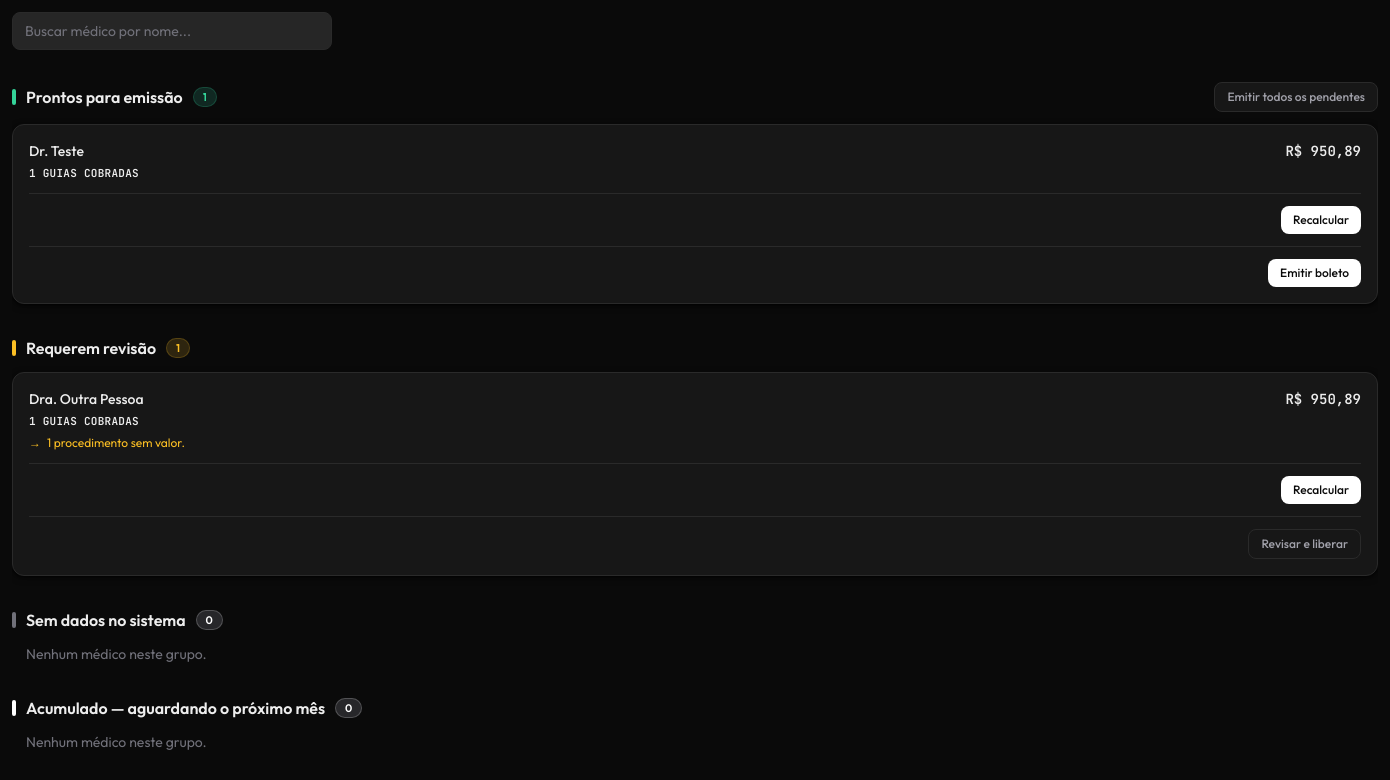
RelatorioGrupos — busca por nome › filtra os grupos pelo nome digitado, sem afetar o total geral
This screenshot has width=1390, height=780.
expect the text "Dr. Teste" is shown: met, box [29, 141, 84, 161]
expect the text "Dra. Outra Pessoa" is shown: met, box [29, 389, 144, 409]
Type "outra" into the search field labelled "Buscar médico por nome" at (172, 31), box [12, 12, 332, 50]
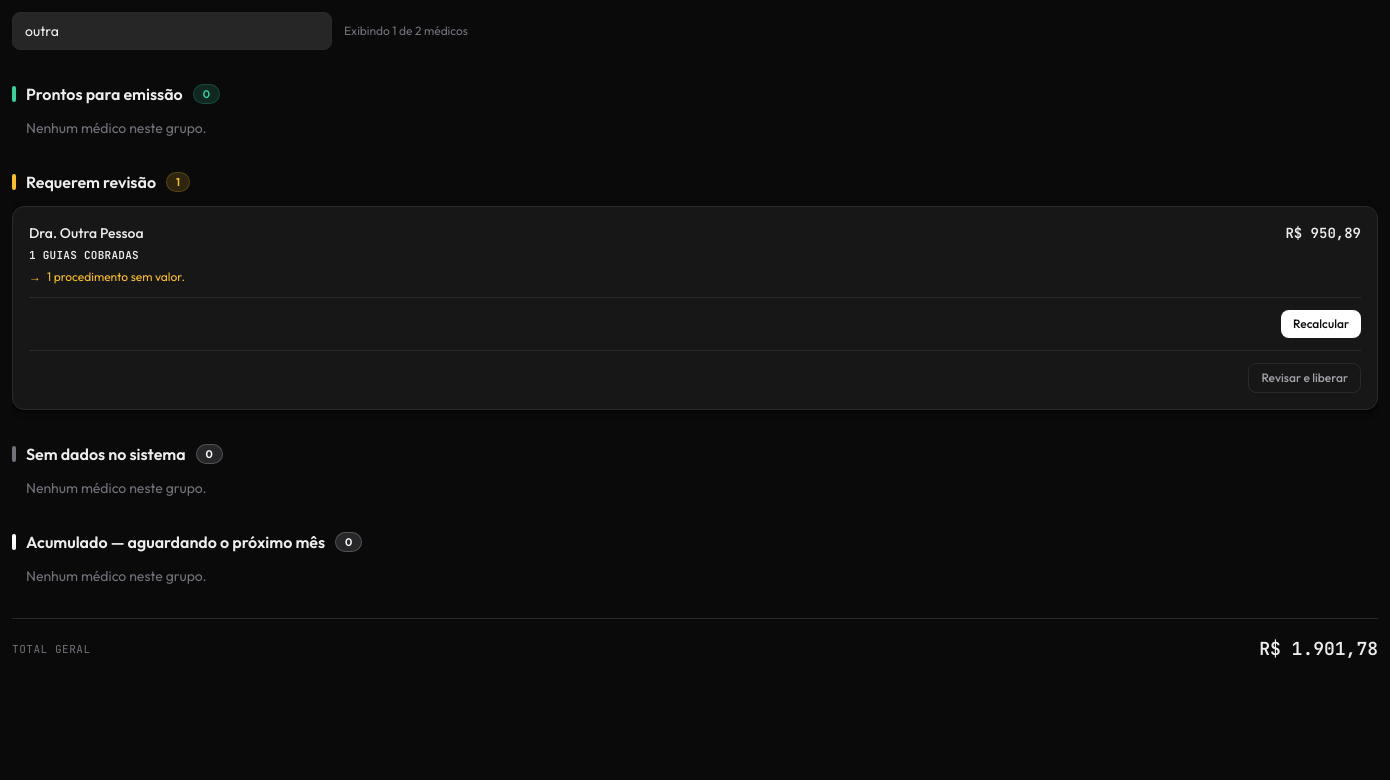
expect the text "Dra. Outra Pessoa" is shown: met, box [29, 223, 144, 243]
expect the text "Dr. Teste" is gone: met
expect the text "Exibindo 1 de 2 médicos" is shown: met, box [344, 23, 468, 39]
